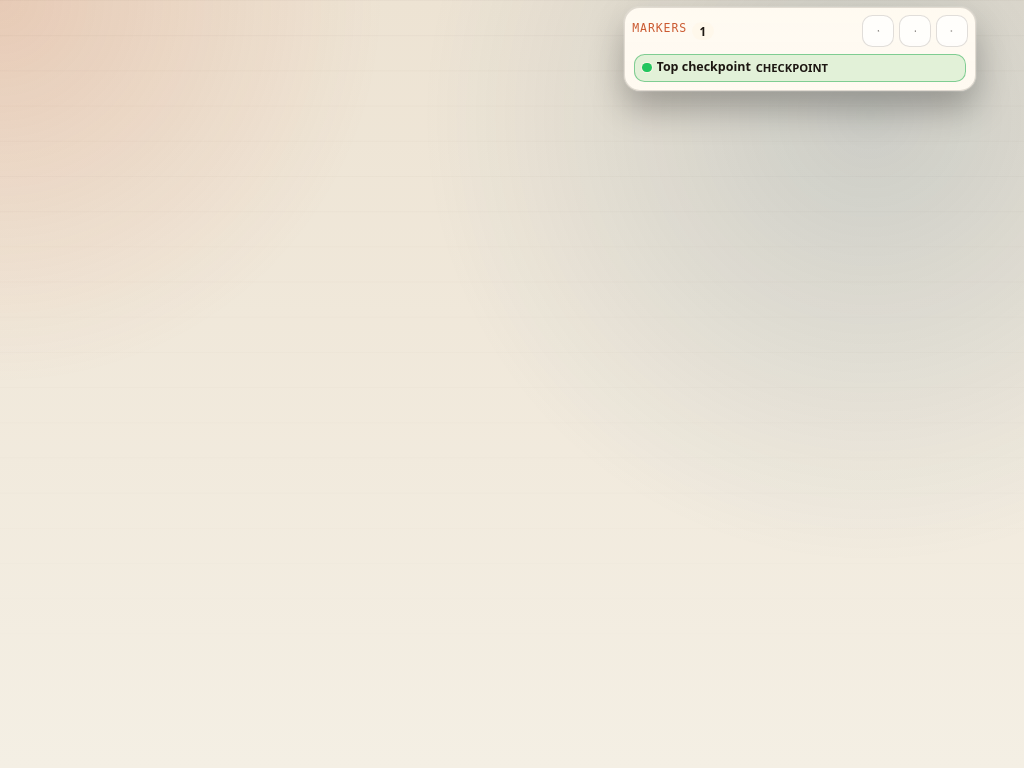
AgentSessionPanel conversation caching › jumps to a virtualized marker target in one click without redundant correction
The image size is (1024, 768).
Click the button with aria-label "Jump to Checkpoint marker Top checkpoint": point(800, 68) [634, 54, 966, 82]
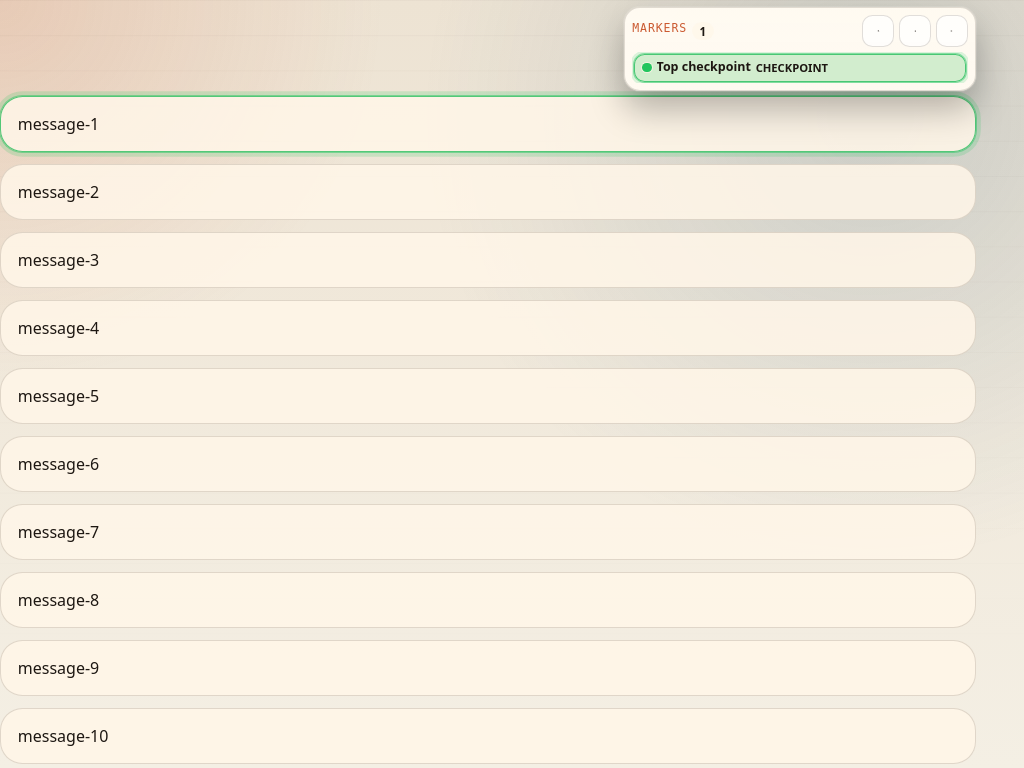
expect the text "message-1" is shown: met, box [0, 96, 976, 152]
